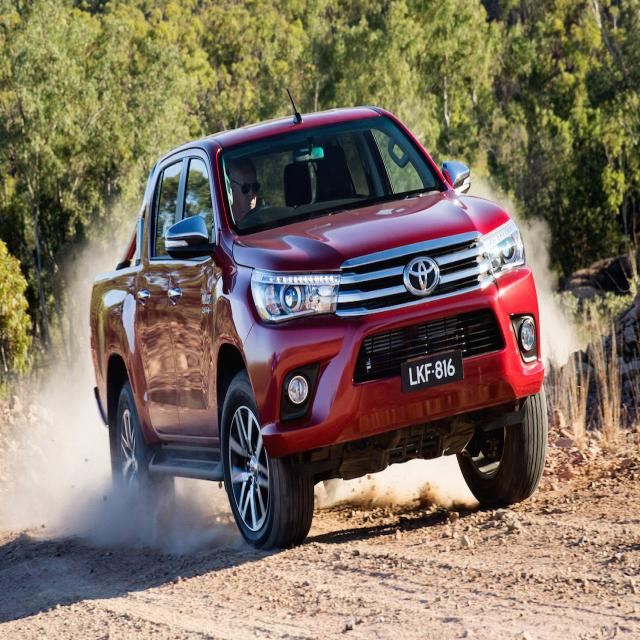light_vehicle: (83, 93, 569, 569)
